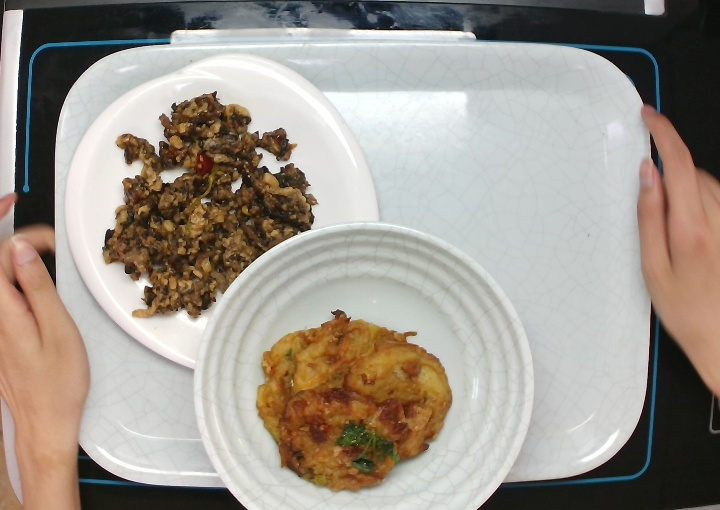JYsf-Da_Tang_Wan: (190, 219, 536, 510)
JYsf-Mian_Pan: (62, 50, 381, 370)
